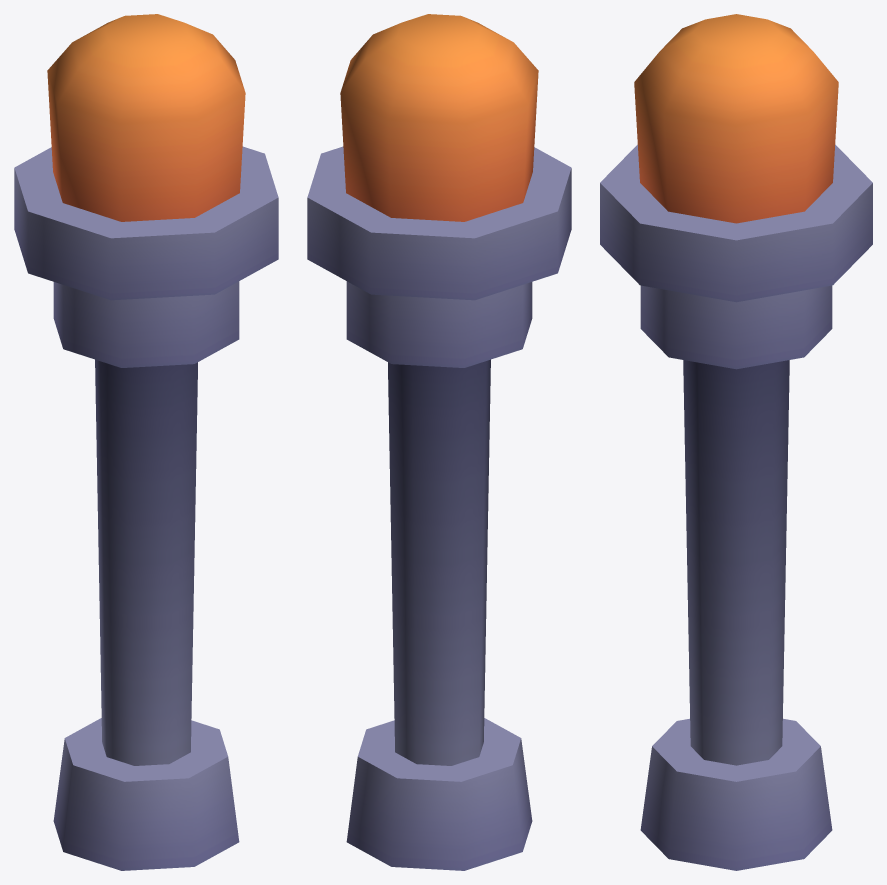
The model's file is kenney-factory-warning-orange.glb.
The picture shows the model from 3 angles, left to right: view 1: azimuth 30°, elevation 25°; view 2: azimuth 150°, elevation 25°; view 3: azimuth 270°, elevation 25°; orthographic projection.
Visible parts, largest first — view 1: warning-orange; view 2: warning-orange; view 3: warning-orange.
Part boxes in pixels (x1,y1,x2,y2): warning-orange: (14, 14, 278, 870); warning-orange: (307, 14, 571, 870); warning-orange: (600, 14, 872, 870).
Bounding box in the file's own units: 0.4 × 1.29 × 0.4.
1 material, 1 textured.
